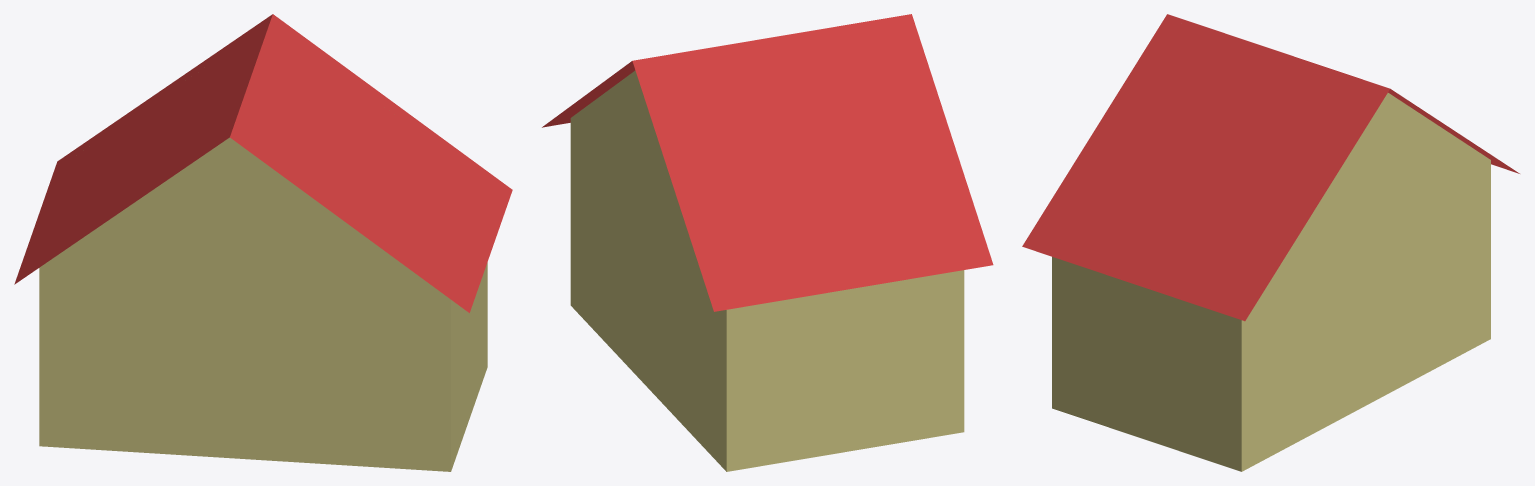
3 views of the same model, side by side, from view 1: azimuth 30°, elevation 25°; view 2: azimuth 150°, elevation 25°; view 3: azimuth 270°, elevation 25° (orthographic). The views are drawn at different scales.
Parts seen in each view (by area): view 1: group_5, group_3, group_4; view 2: group_5, group_3, group_4; view 3: group_5, group_3, group_4.
Part boxes in pixels (<box>): group_5: <box>39,137,487,471</box>; group_3: <box>14,14,512,312</box>; group_4: <box>57,14,512,220</box>; group_5: <box>570,70,964,471</box>; group_3: <box>542,14,993,311</box>; group_4: <box>544,57,786,311</box>; group_5: <box>1052,93,1490,471</box>; group_3: <box>1022,15,1519,320</box>; group_4: <box>1156,14,1517,320</box>.
Size of the model in its own units: 18.51 by 17.6 by 12.39.
